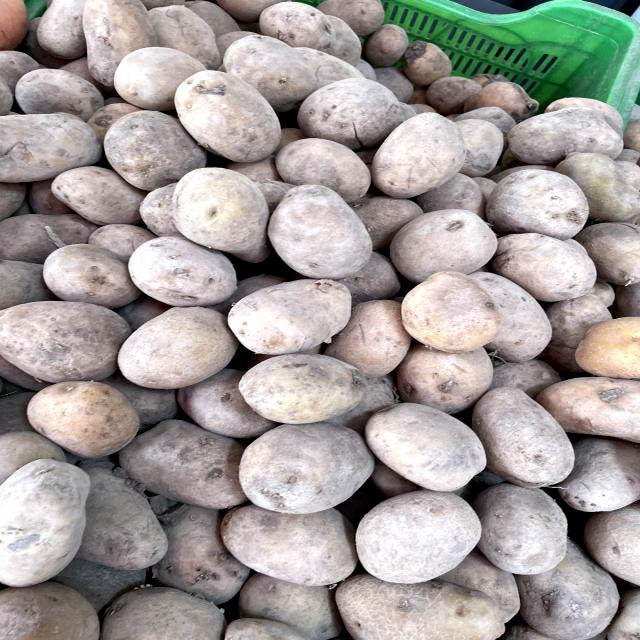potato: (340, 483, 500, 583), (112, 413, 269, 512), (356, 394, 499, 495), (0, 295, 147, 388), (265, 172, 380, 285), (165, 65, 292, 167), (15, 371, 152, 461), (232, 343, 371, 429), (391, 262, 513, 357), (366, 108, 474, 201), (121, 231, 244, 309), (487, 162, 604, 244), (389, 201, 512, 278), (0, 105, 109, 190)
